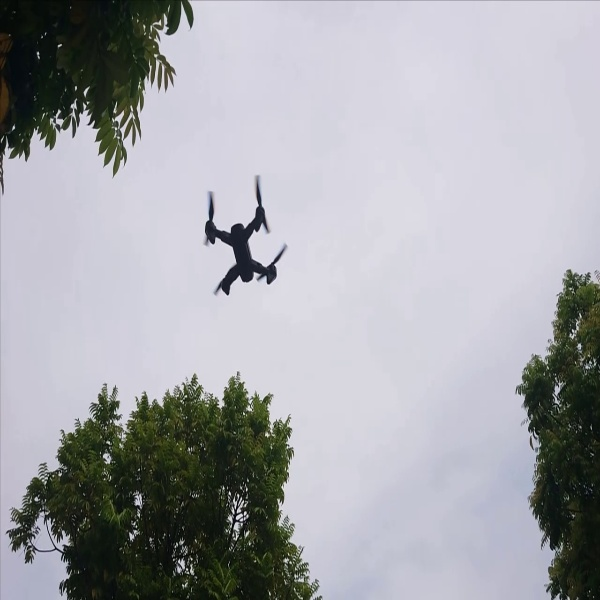drone: (191, 171, 289, 299)
